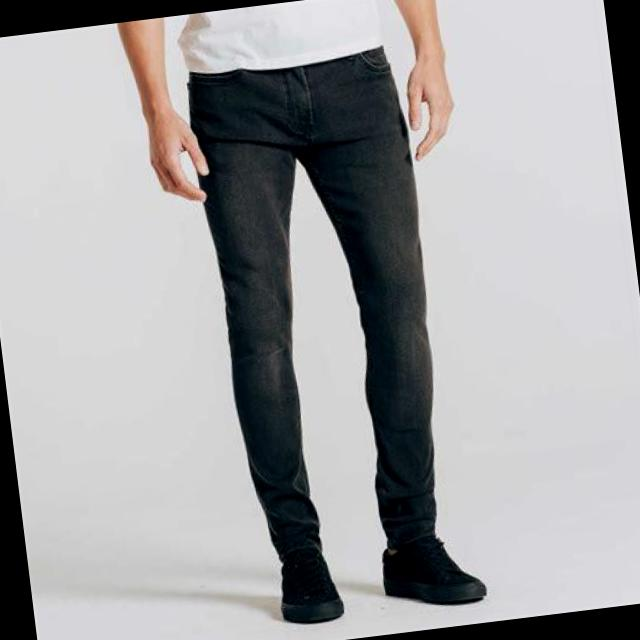pants: (182, 42, 459, 566)
